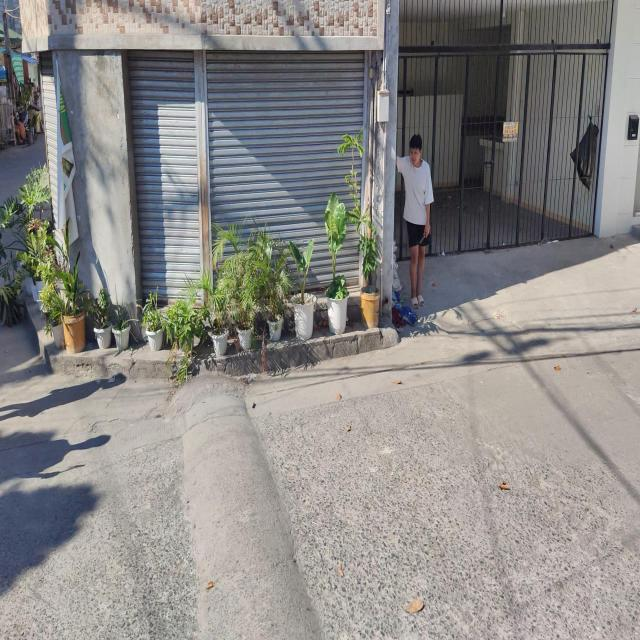hammer: (419, 224, 431, 244)
